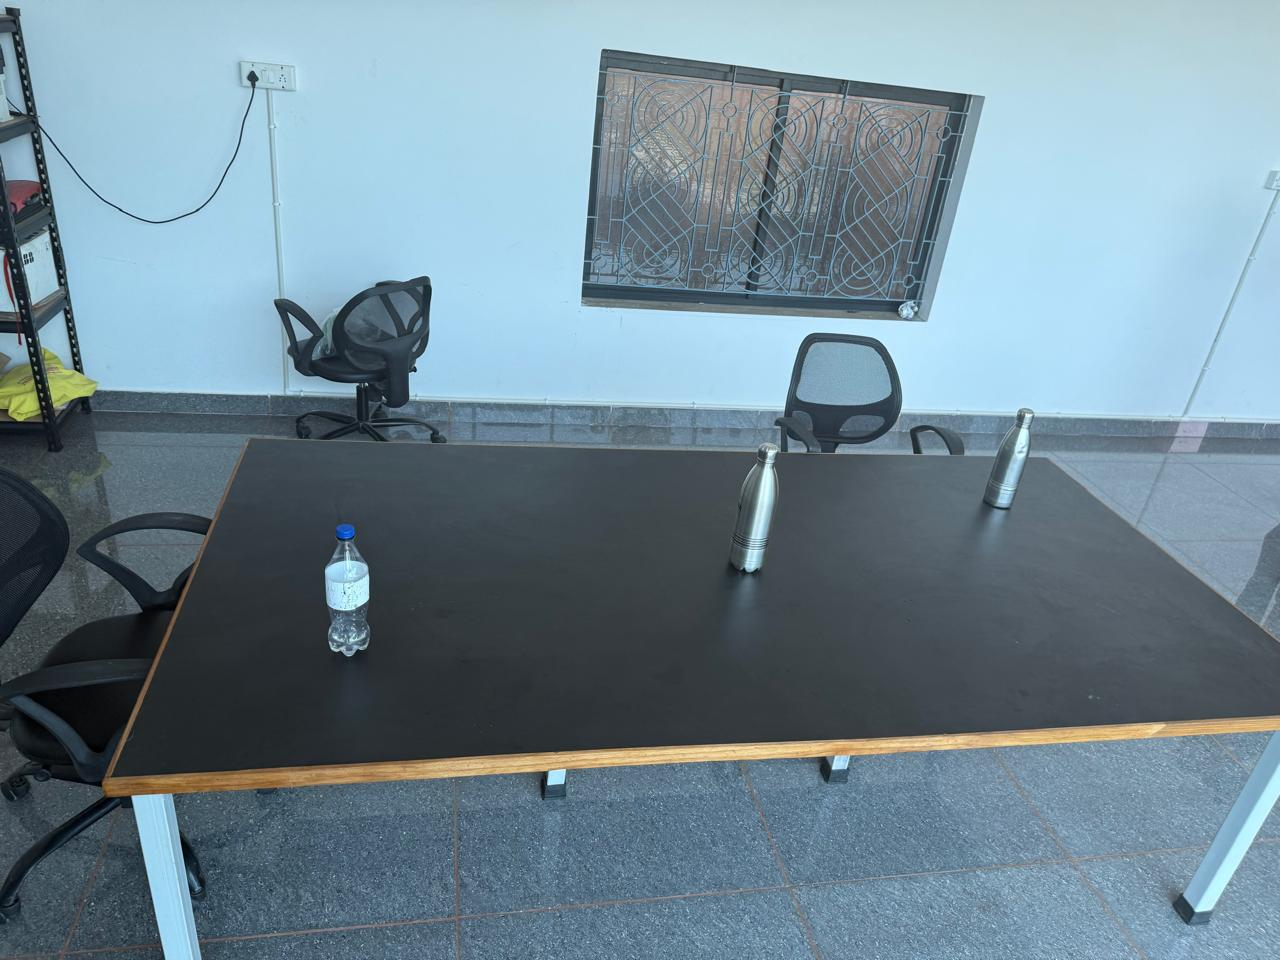bottle_on_table: (696, 434, 802, 587), (310, 515, 396, 685), (991, 390, 1040, 529)
